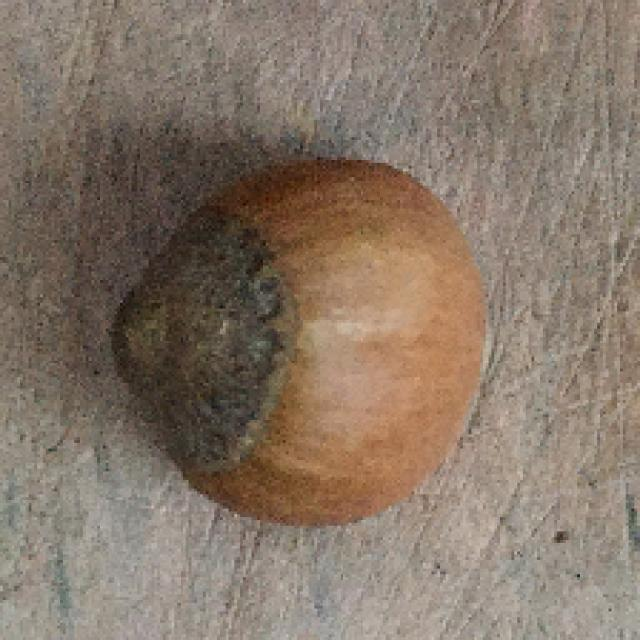DamagedHazelnut: (120, 159, 496, 526)
